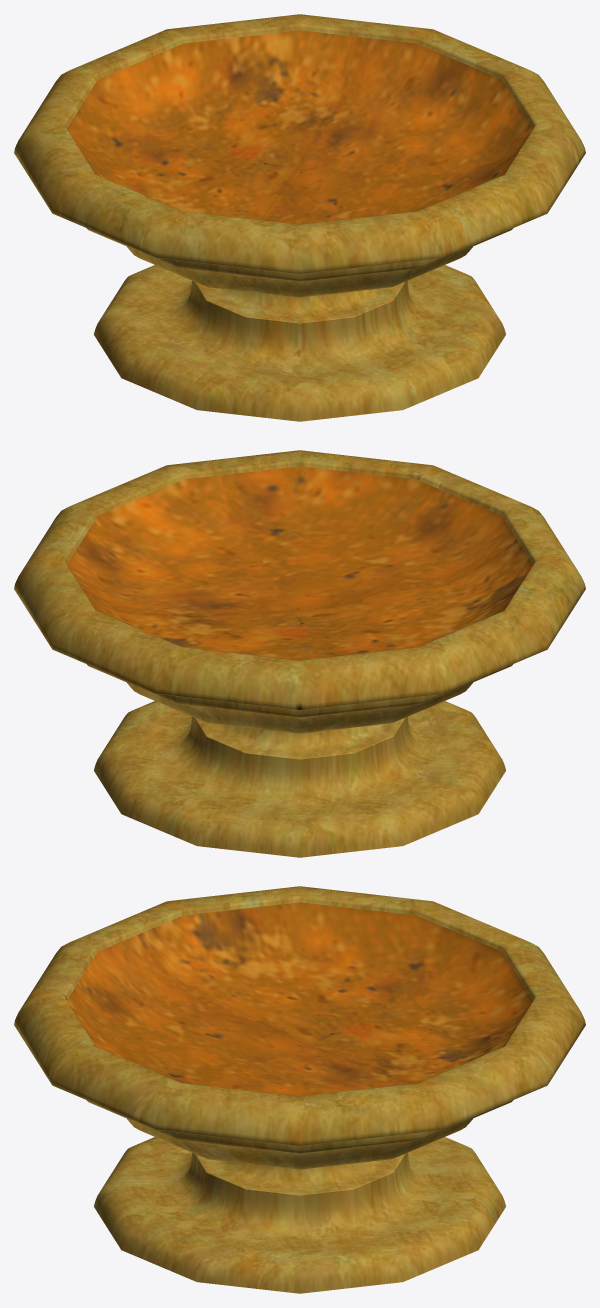
Rendered from Brazier.FBX.
3 views of the same model, one above another, from view 1: azimuth 30°, elevation 25°; view 2: azimuth 150°, elevation 25°; view 3: azimuth 270°, elevation 25° (orthographic).
Parts seen in each view (by area): view 1: Brazier; view 2: Brazier; view 3: Brazier.
Part boxes in pixels (x1,y1,x2,y2): Brazier: (14,14,585,421); Brazier: (14,450,585,857); Brazier: (14,886,585,1293).
Bounding box in the file's own units: 94.82 × 38.48 × 94.82.
